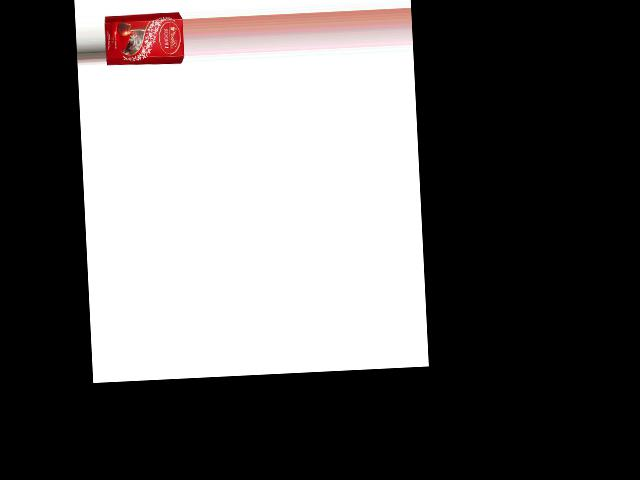chocolate: (103, 8, 184, 68)
